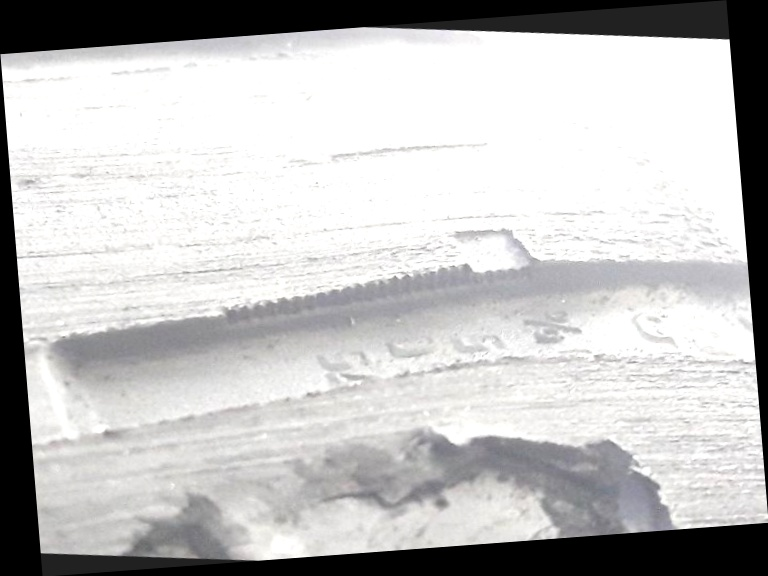temoin:0: (407, 209, 554, 324)
